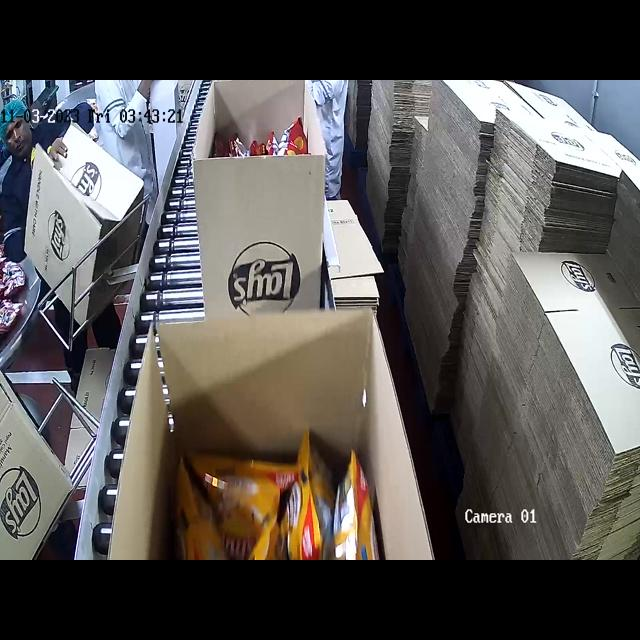cheese: (180, 443, 386, 560)
masala: (212, 122, 318, 154)
